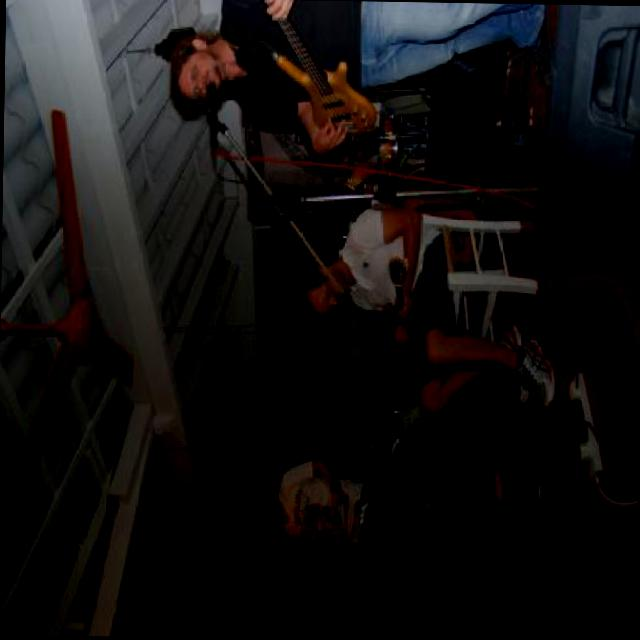Person: (171, 0, 554, 164), (300, 202, 558, 410), (242, 449, 458, 584), (252, 412, 406, 484)
